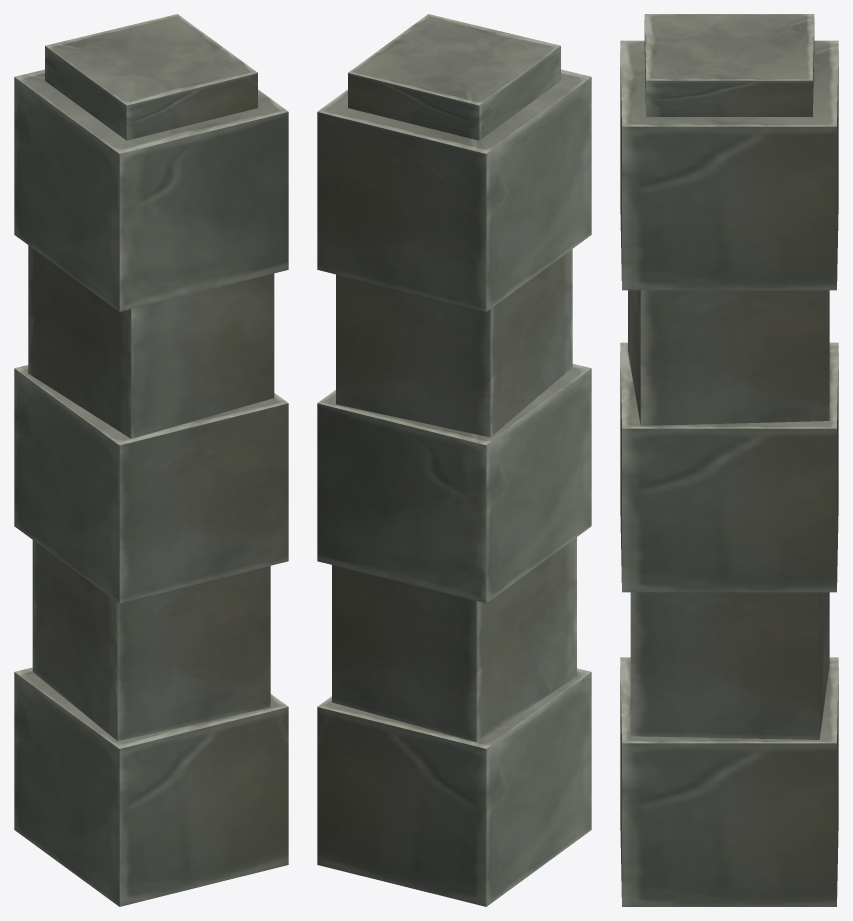
Rendered from pillar_01.fbx.
3 renders of one model, left to right at view 1: azimuth 30°, elevation 25°; view 2: azimuth 150°, elevation 25°; view 3: azimuth 270°, elevation 25°, orthographic. The views are drawn at different scales.
Visible parts, largest first — view 1: pillar_01:Mesh; view 2: pillar_01:Mesh; view 3: pillar_01:Mesh.
Boxes of the visible parts, box(x1,y1,x2,y2) form: pillar_01:Mesh: box(14, 14, 288, 906); pillar_01:Mesh: box(317, 14, 591, 906); pillar_01:Mesh: box(620, 14, 838, 906).
Bounding box in the file's own units: 0.6368 × 2.82 × 0.6835.
